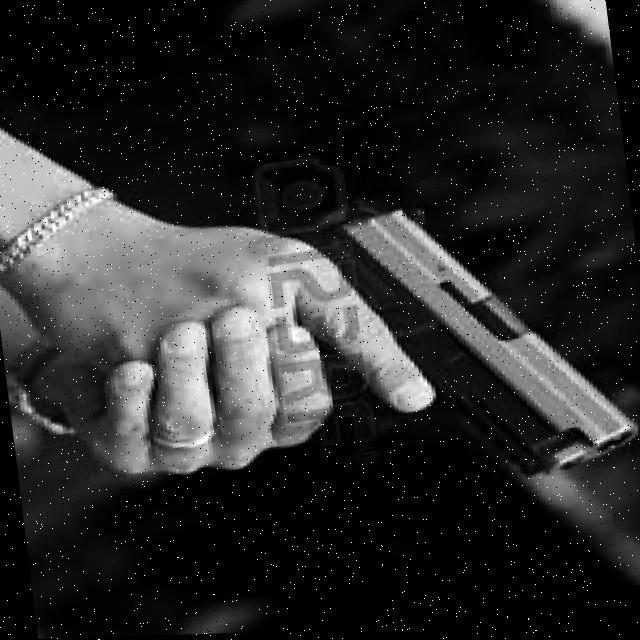pistol: (295, 161, 640, 511)
